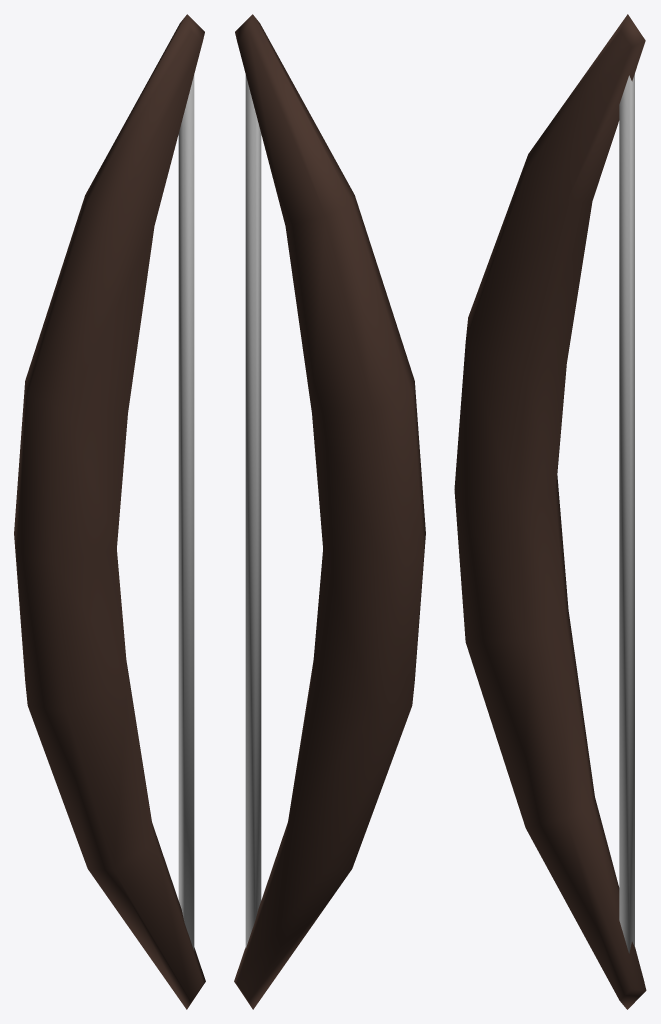
Rendered from bow.fbx.
3 renders of one model, left to right at view 1: azimuth 30°, elevation 25°; view 2: azimuth 150°, elevation 25°; view 3: azimuth 330°, elevation 25°, orthographic.
Visible parts, largest first — view 1: Cube; view 2: Cube; view 3: Cube.
Part boxes in pixels (x1,y1,x2,y2): Cube: (14,14,205,1009); Cube: (234,14,425,1009); Cube: (454,14,646,1009).
Size of the model in its own units: 22.44 by 113 by 8.5.
